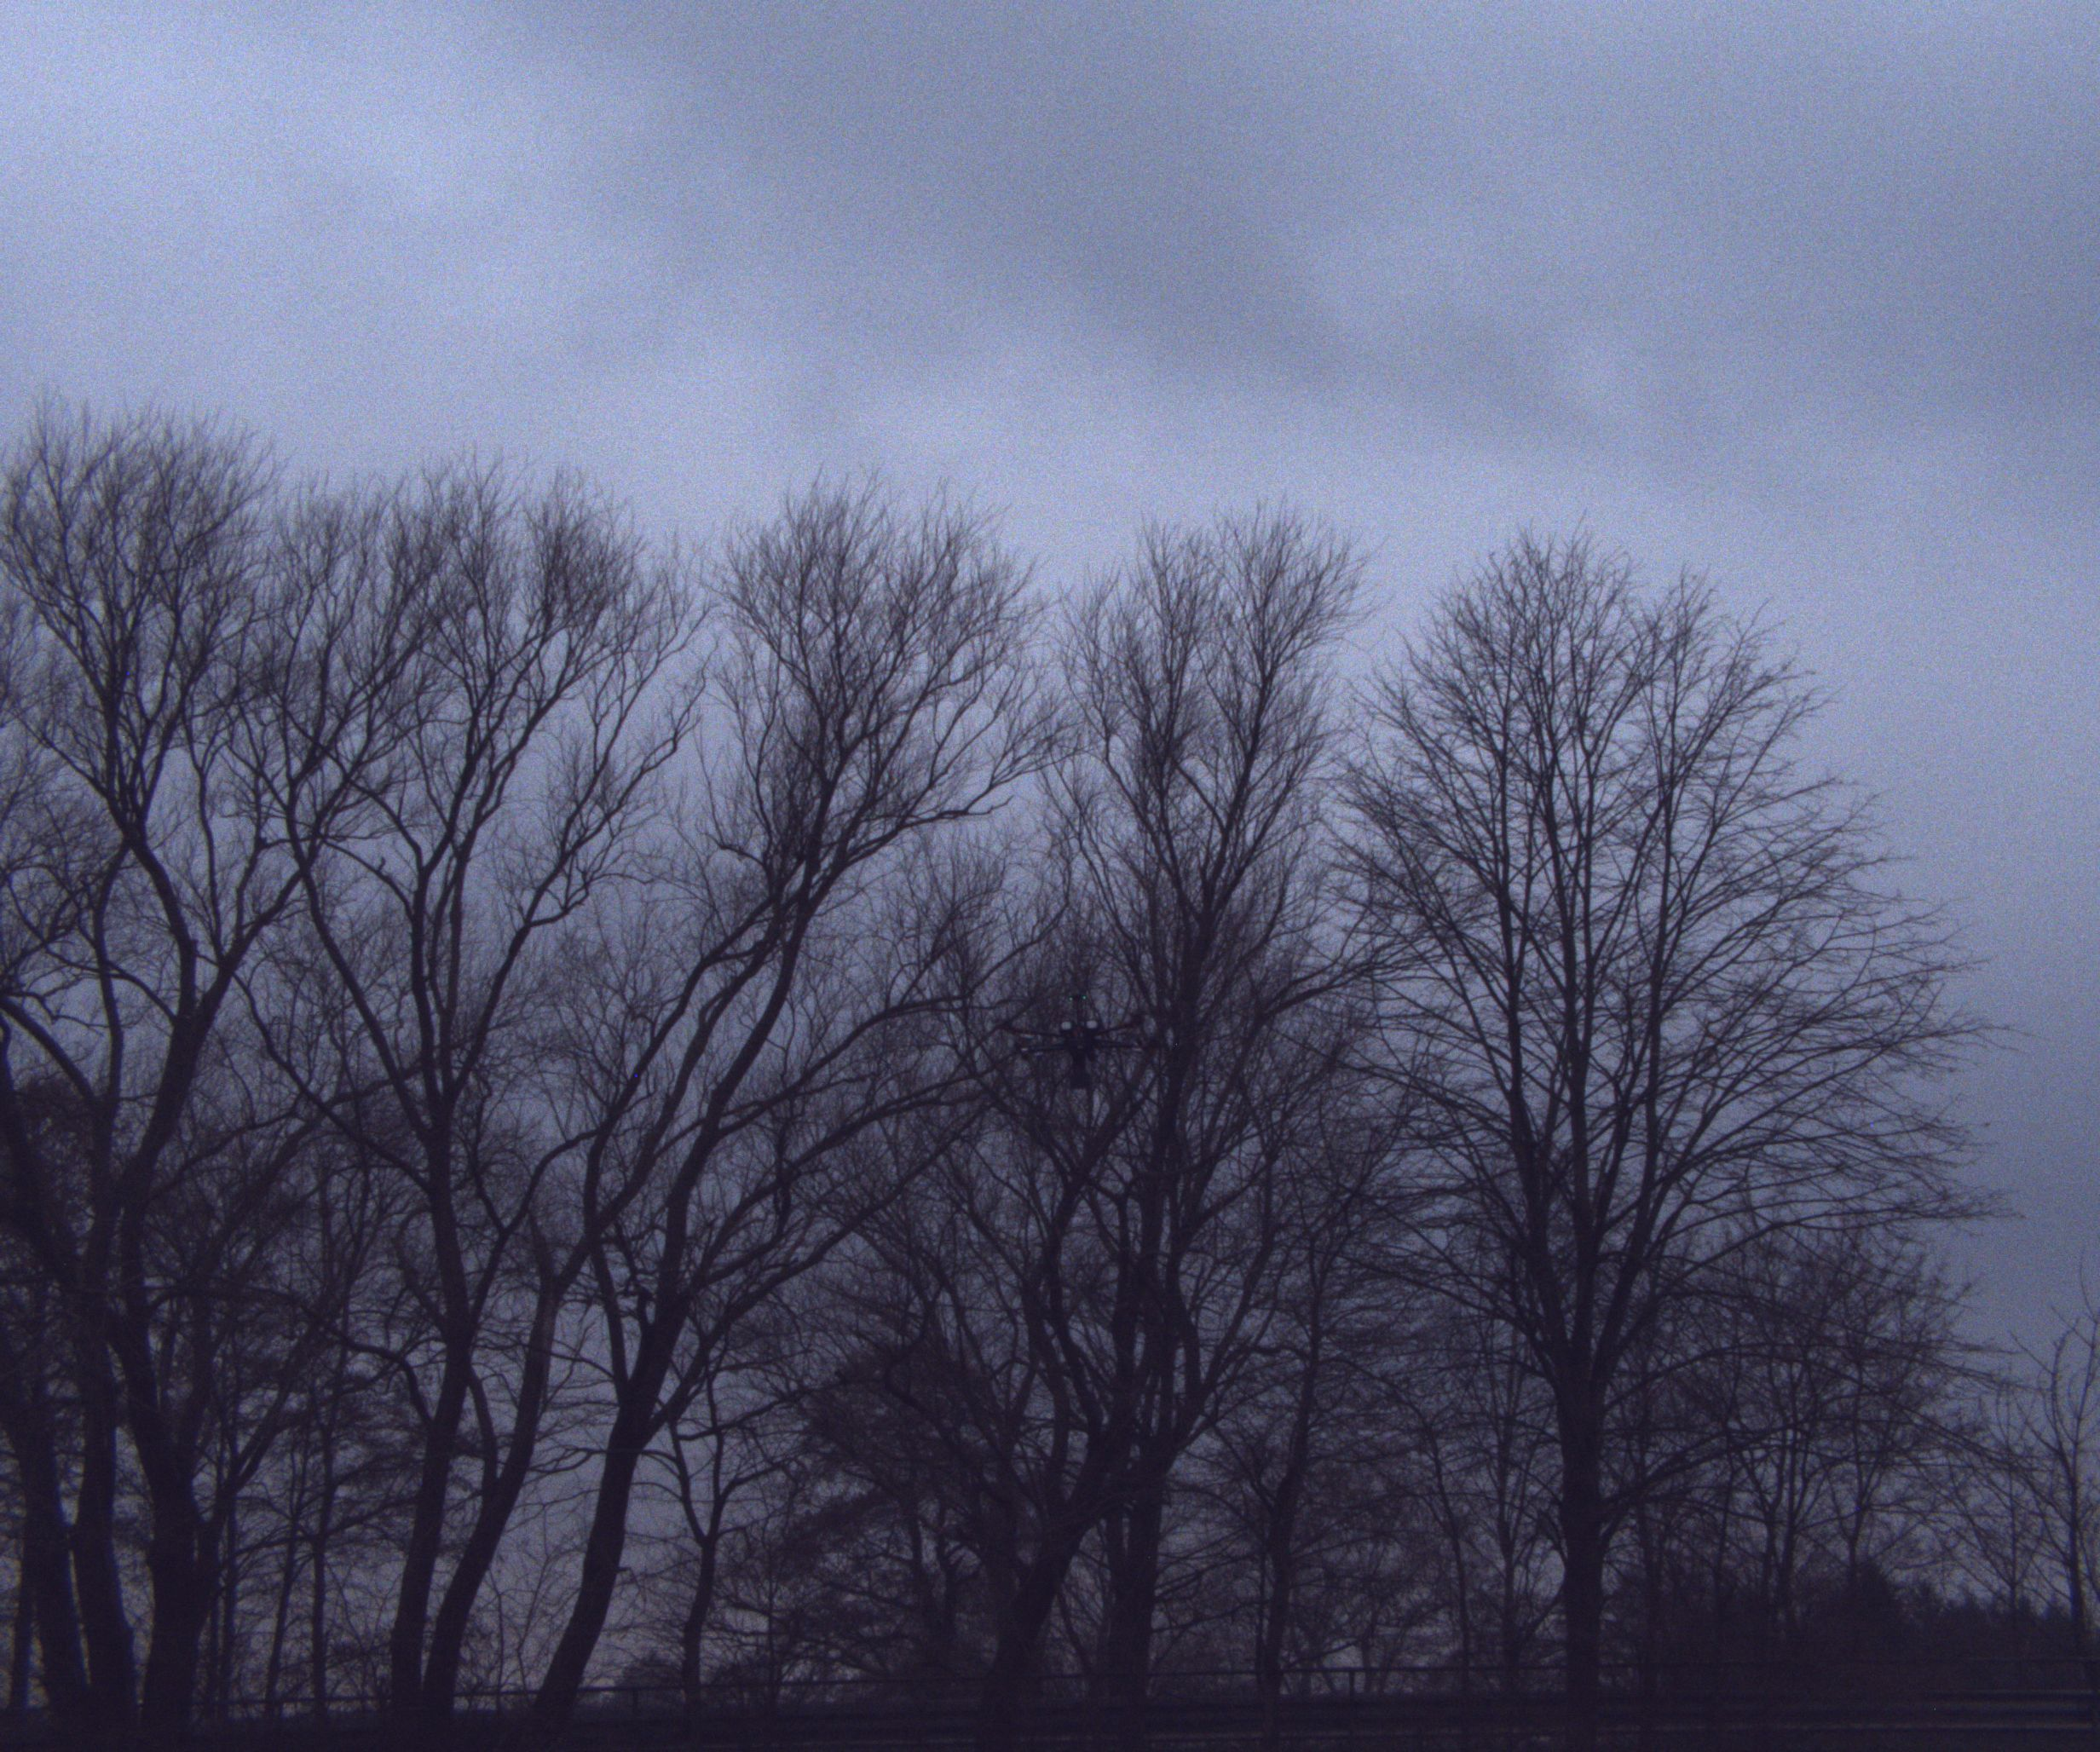Drohne: (992, 952, 1230, 1079)
